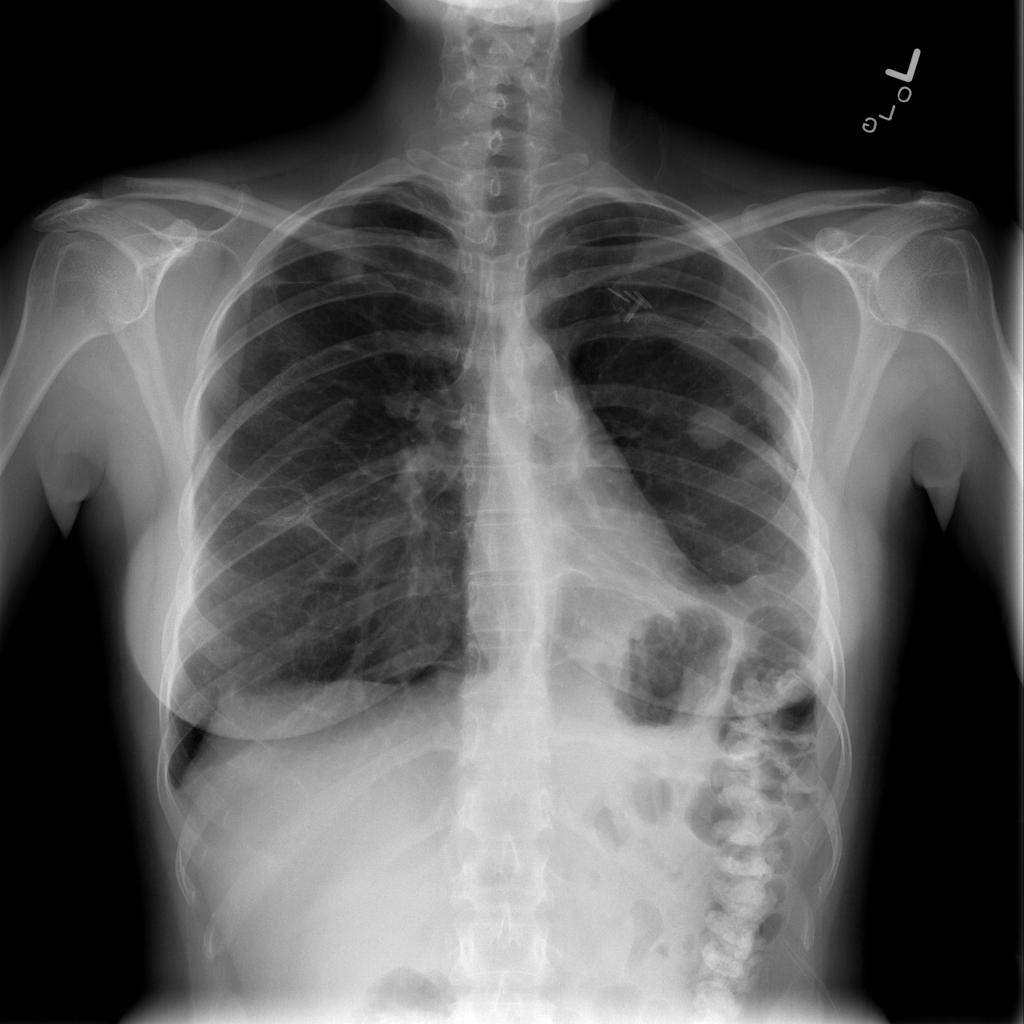nodule: (672, 389, 755, 459), (309, 239, 389, 300)
